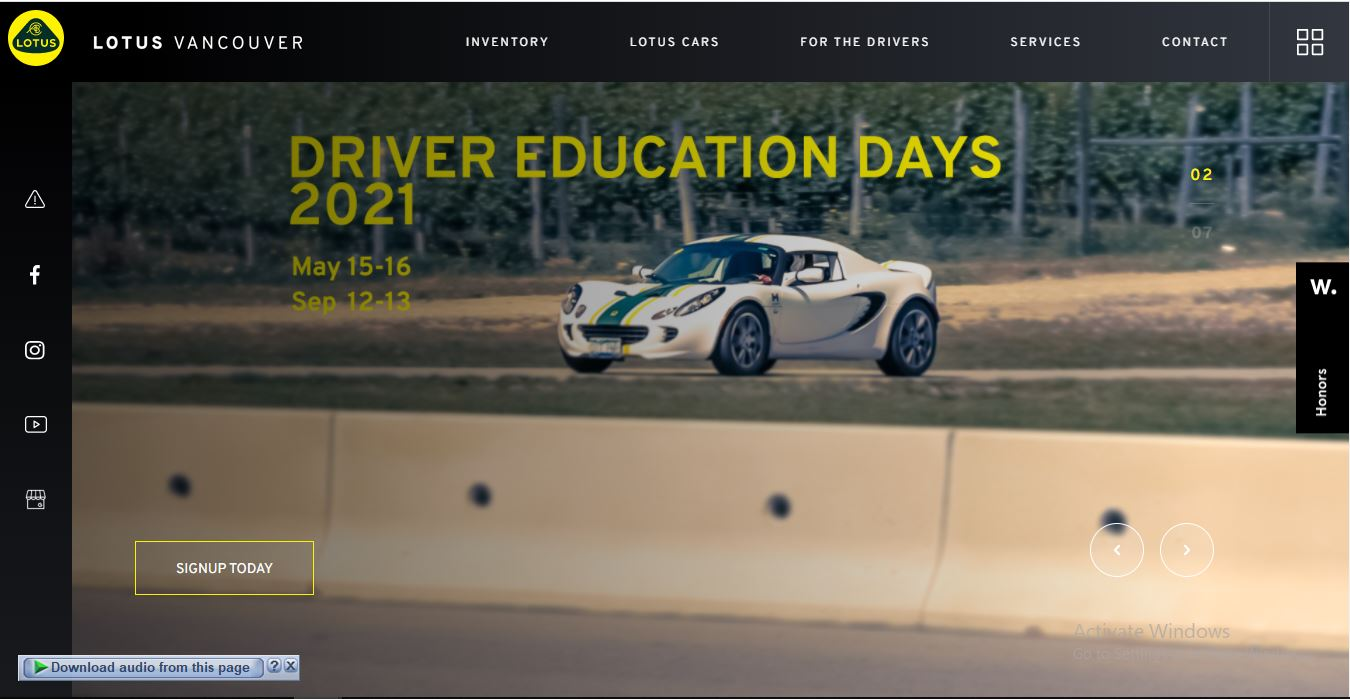Menu Bar: (438, 5, 1248, 75)
Side Bar: (4, 83, 68, 699)
